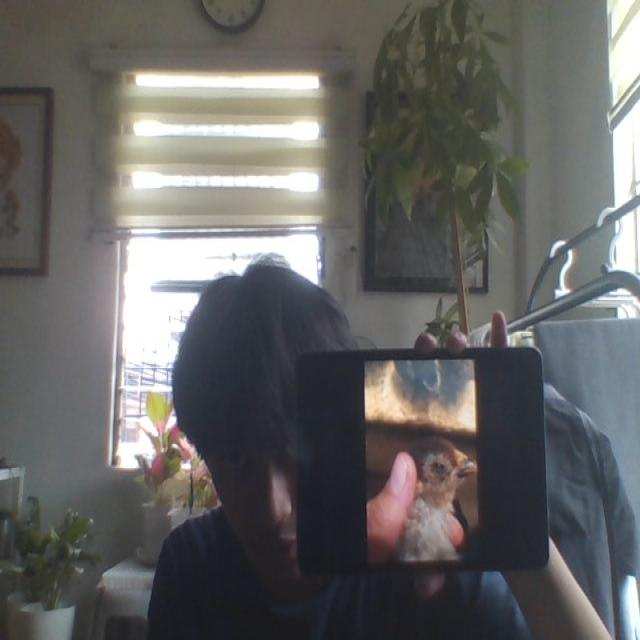Sick: (406, 434, 476, 561)
